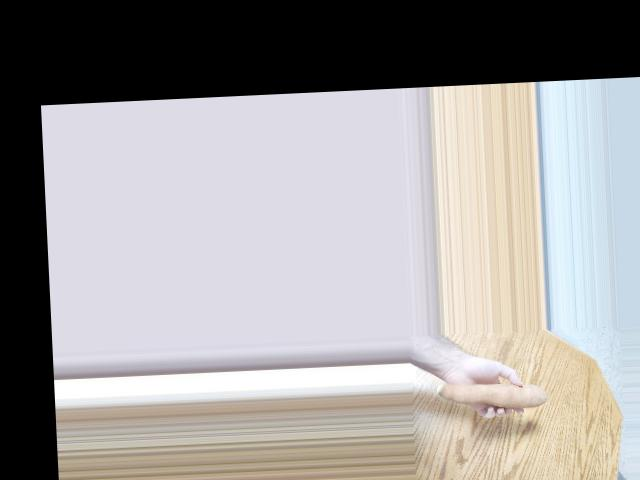sweet_potato: (440, 381, 552, 419)
